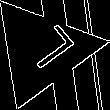L_SW: (11, 23, 73, 78)
